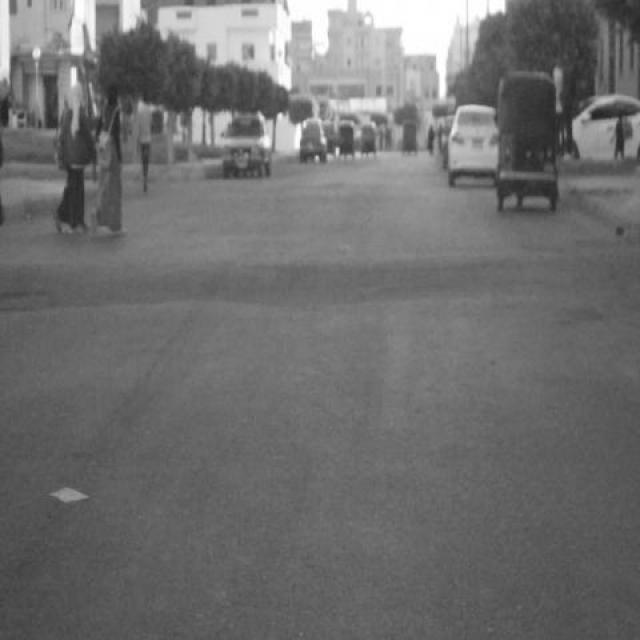Unmarked Bump: (0, 241, 640, 316)
